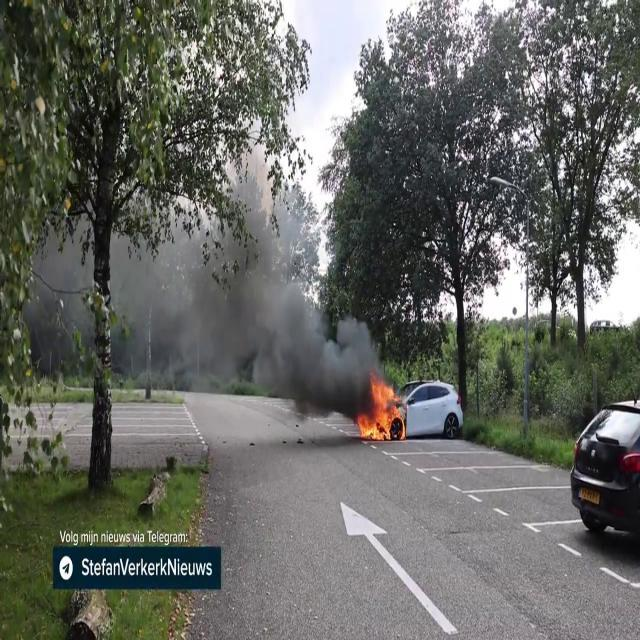Fire: (358, 371, 404, 444)
Smoke: (121, 182, 374, 428)
